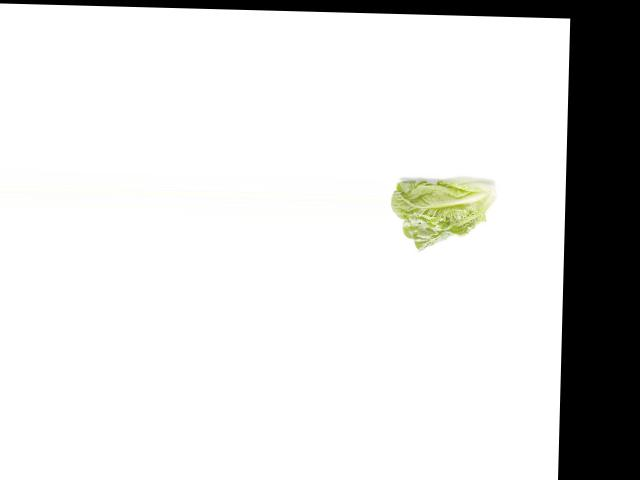lettuce: (389, 162, 501, 253)
